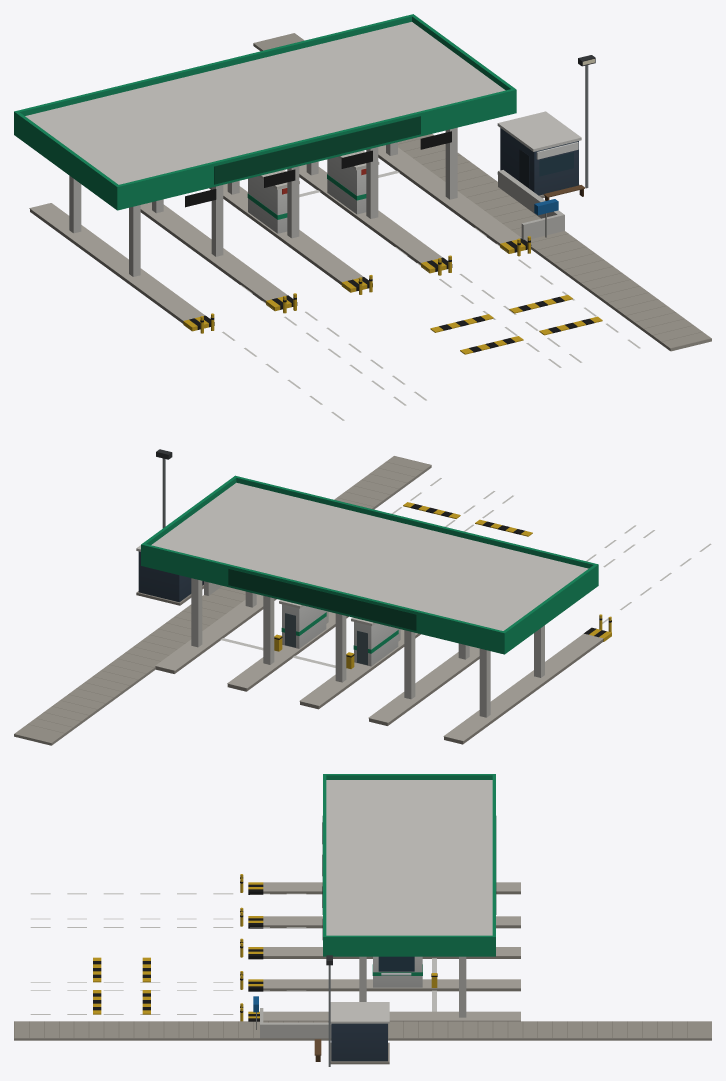
The model's file is ns_airtoll.glb.
The picture shows the model from 3 angles, top to bottom: view 1: azimuth 30°, elevation 25°; view 2: azimuth 150°, elevation 25°; view 3: azimuth 270°, elevation 25°; orthographic projection. The views are drawn at different scales.
Parts seen in each view (by area): view 1: ns_airtoll; view 2: ns_airtoll; view 3: ns_airtoll.
Boxes of the visible parts, bbox=[...] form: ns_airtoll: bbox=[14, 14, 711, 420]; ns_airtoll: bbox=[14, 449, 711, 745]; ns_airtoll: bbox=[14, 774, 711, 1066].
Bounding box in the file's own units: 27.9 × 7.2 × 42.
